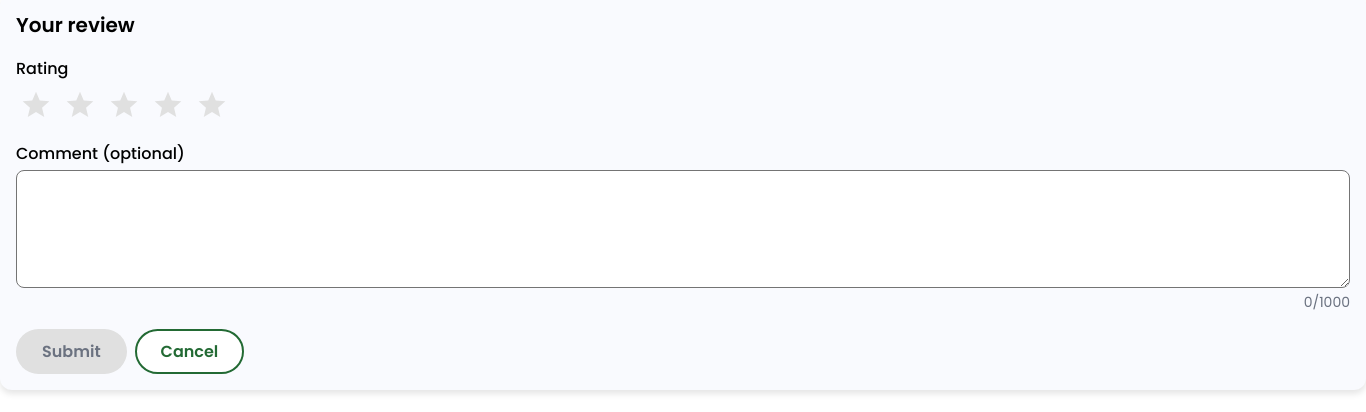
ReviewForm › updates the character counter and limits the comment to 1000 characters
The image size is (1366, 412).
Expected: the text "0/1000" is shown, left=1304, top=292, right=1350, bottom=313
Type "Hola" into the text box labelled "Comment (optional)" at [683, 229], box left=16, top=170, right=1350, bottom=288
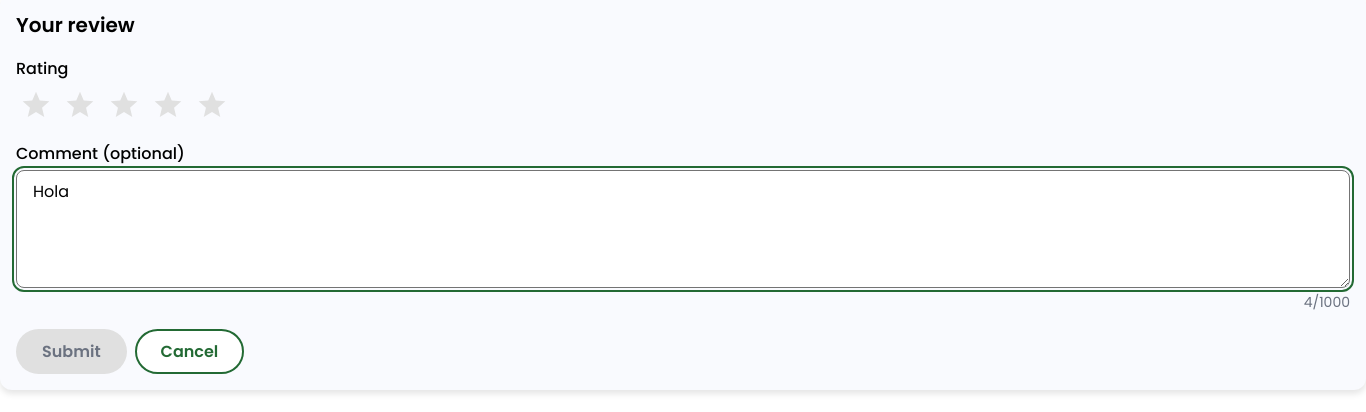
Result: the text "4/1000" is shown at left=1304, top=292, right=1350, bottom=313
